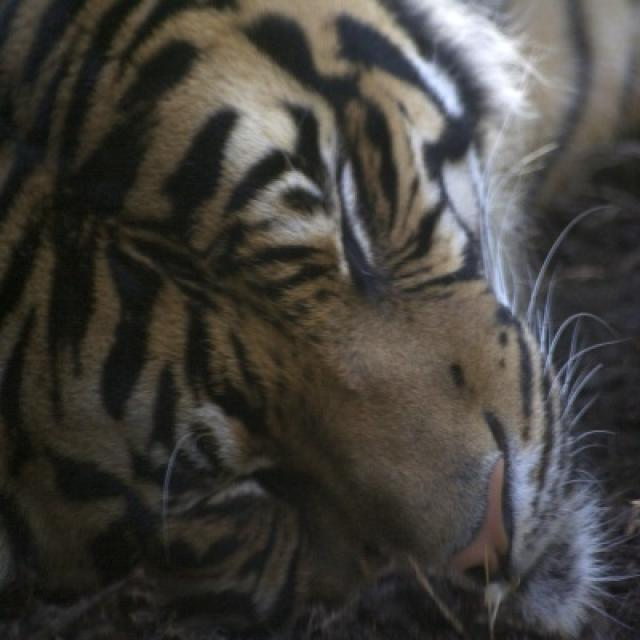Tiger: (5, 0, 638, 633)
